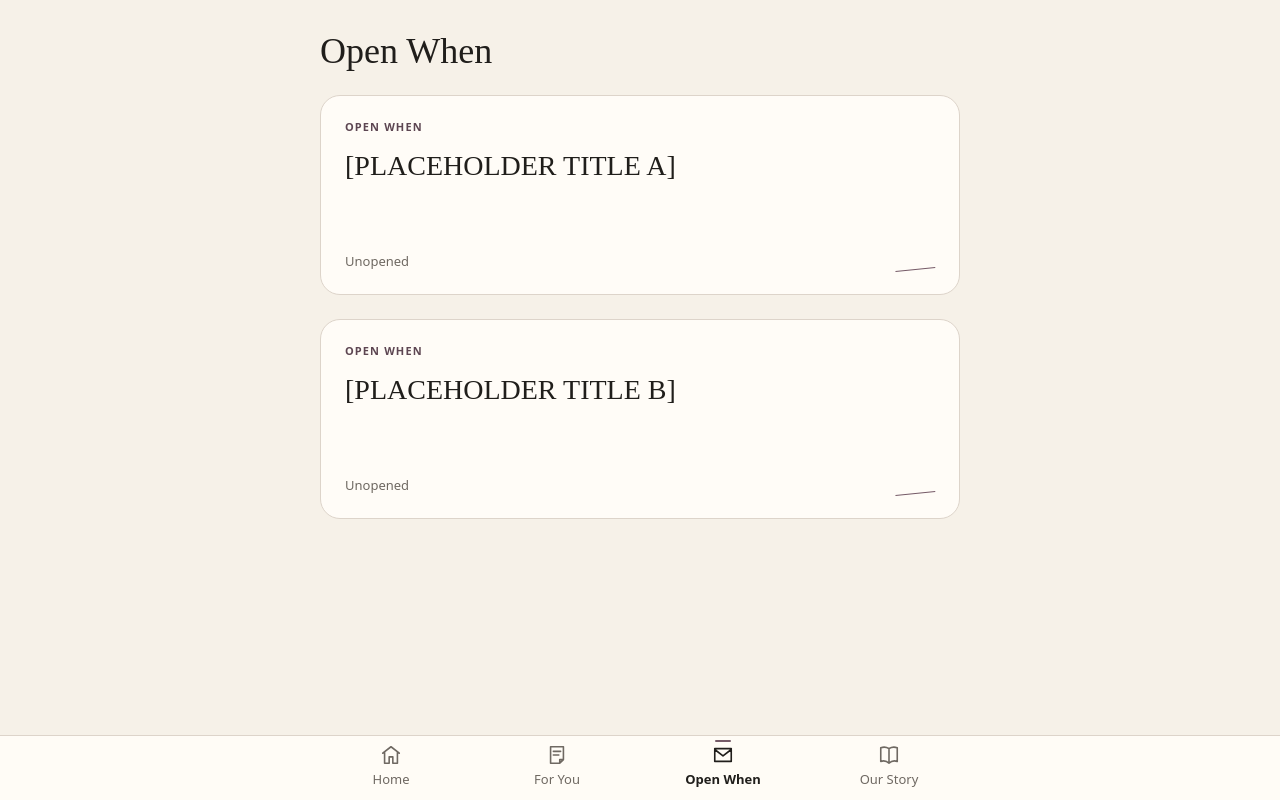
Open When flows › keeps reading and in-memory state usable without storage
Click the link "Open when [PLACEHOLDER TITLE A] Unopened". click: (384, 126)
box: [320,95,960,295]
Wait 320 ms
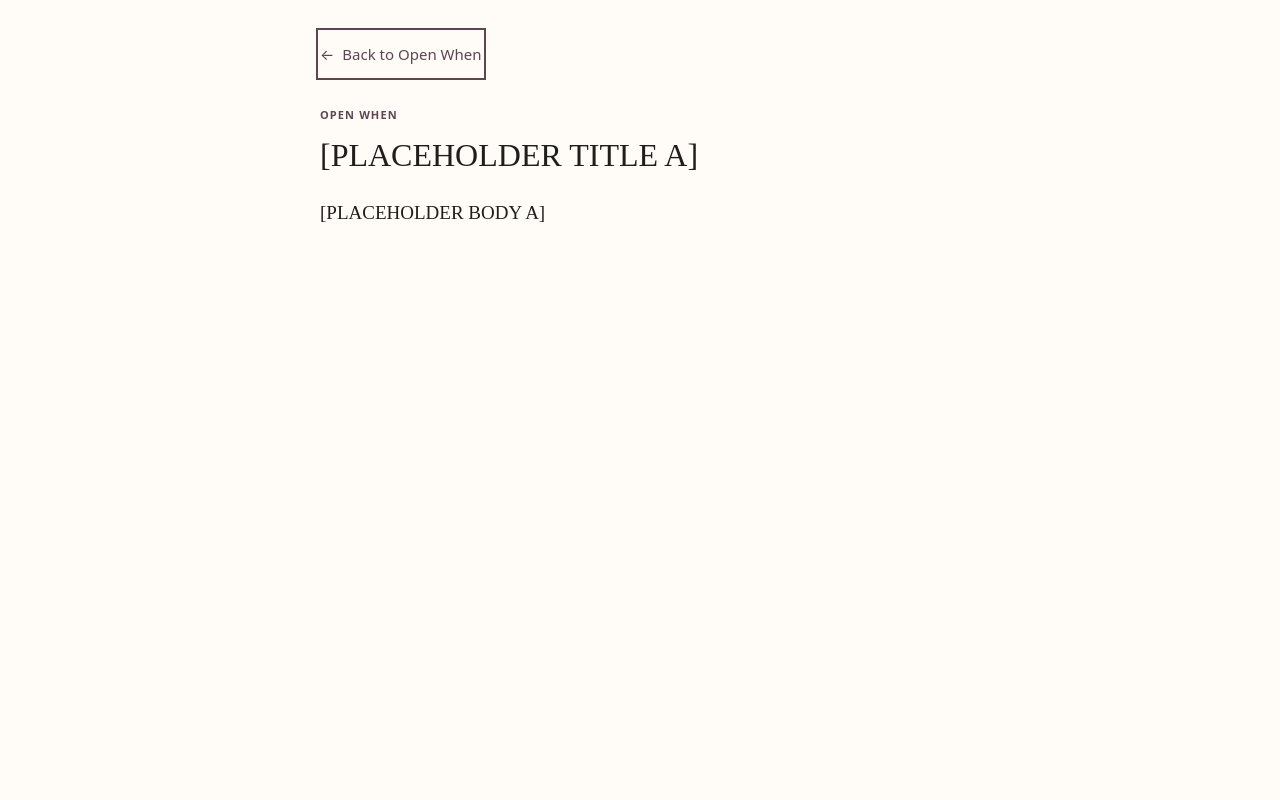
Expected: the text "[PLACEHOLDER BODY A]" is shown, [320,202,545,223]
